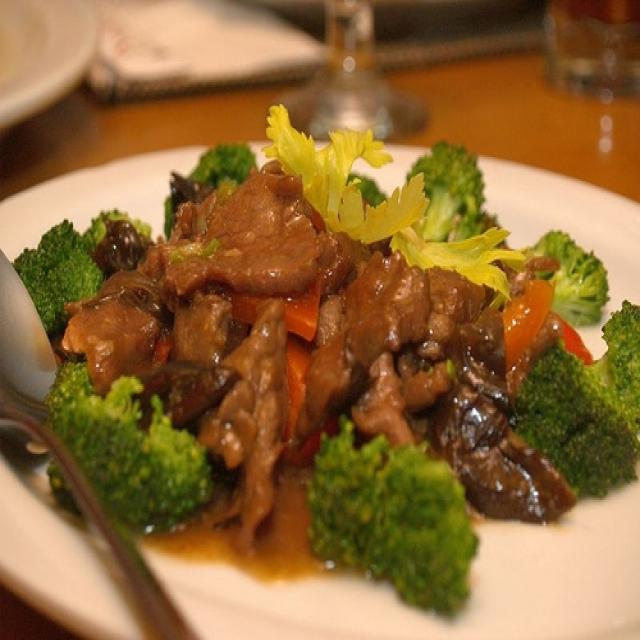牛肉菜式: (15, 77, 635, 599)
